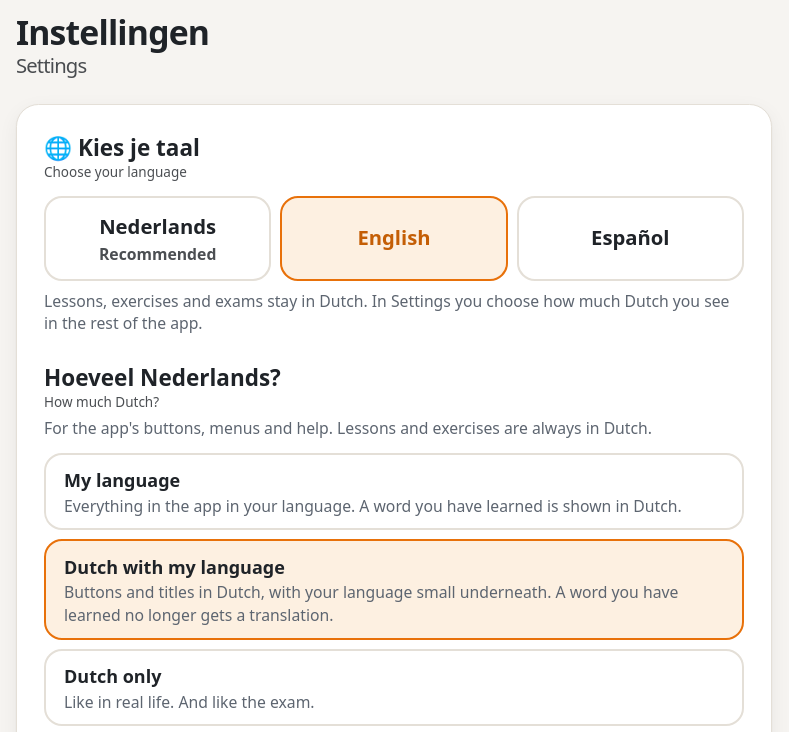
Test case: settings: how much Dutch › choosing a level saves it and the page follows straight away
Click the radio button labelled "Dutch only Like in real life. And like the exam." at point(113, 676), box x1=44 y1=649 x2=744 y2=726
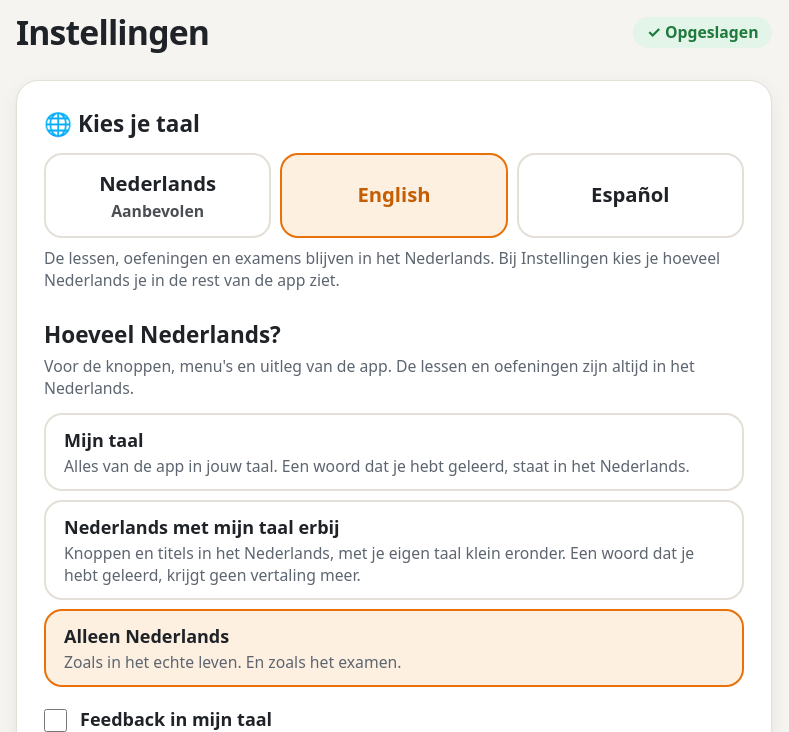
Expected: the radio button that starts with "Alleen Nederlands" is shown, x1=44 y1=609 x2=744 y2=687
